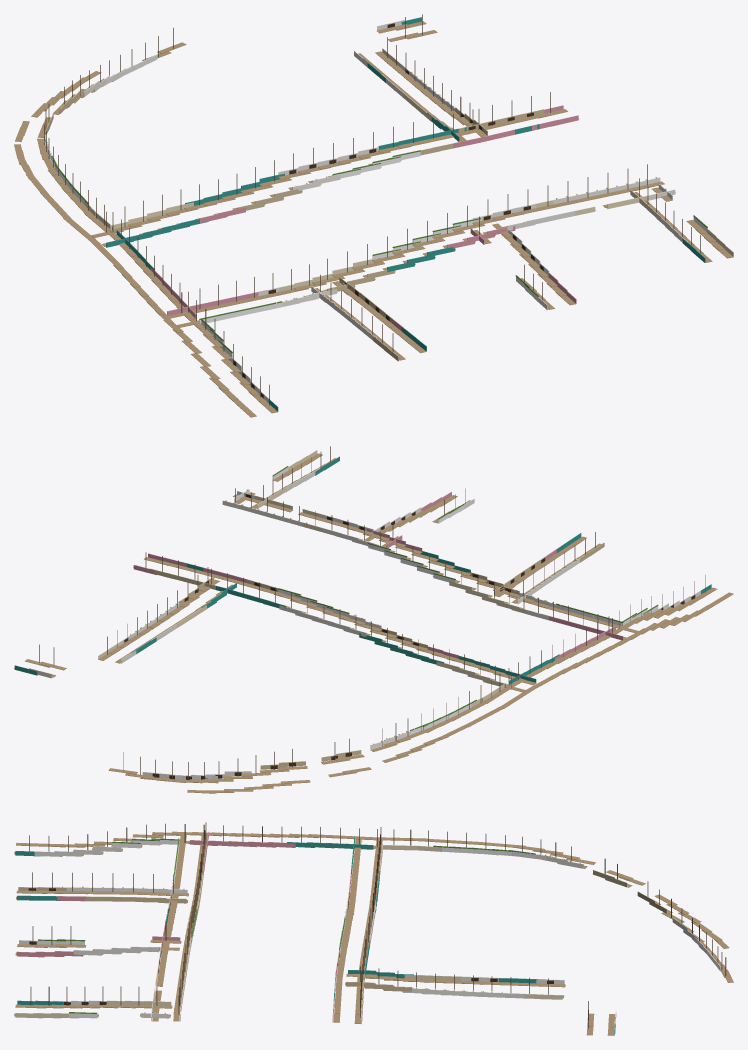
Rendered from noord_res_-27_-23.glb.
3 renders of one model, top to bottom at view 1: azimuth 30°, elevation 25°; view 2: azimuth 150°, elevation 25°; view 3: azimuth 270°, elevation 25°, orthographic. The views are drawn at different scales.
Visible parts, largest first — view 1: noord_res_-27_-23_lod0; view 2: noord_res_-27_-23_lod0; view 3: noord_res_-27_-23_lod0.
Boxes of the visible parts, x1,y1,x2,y2 form: noord_res_-27_-23_lod0: [14, 14, 733, 417]; noord_res_-27_-23_lod0: [14, 446, 733, 793]; noord_res_-27_-23_lod0: [14, 822, 733, 1035].
Size of what is drawn, in the model's own units: 206 by 27.24 by 281.
